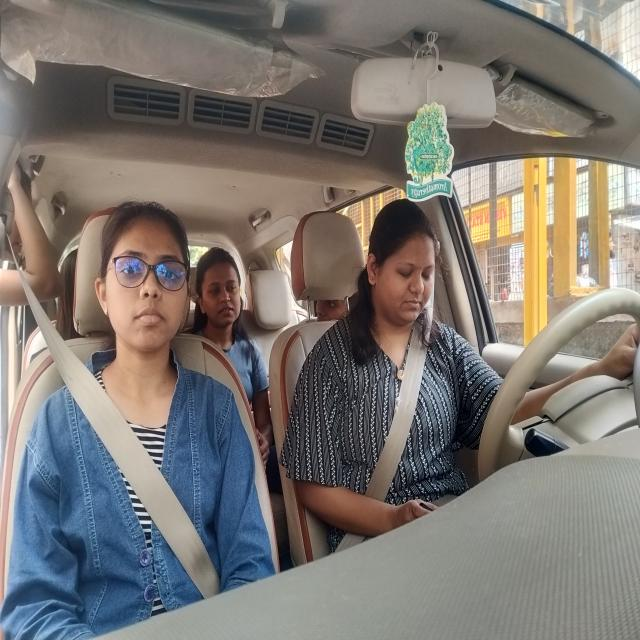drowsy: (362, 209, 442, 327)
person: (103, 218, 192, 354), (193, 244, 254, 336)
